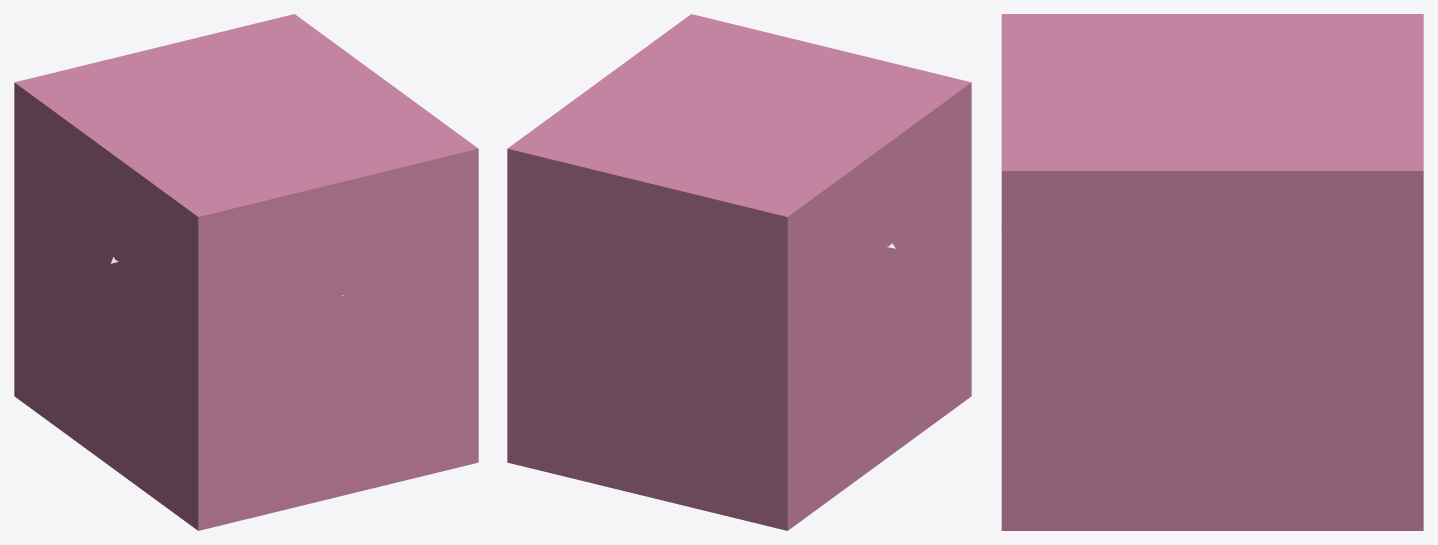
Rendered from tree_palm_f.dae.
The picture shows the model from 3 angles, left to right: view 1: azimuth 30°, elevation 25°; view 2: azimuth 150°, elevation 25°; view 3: azimuth 270°, elevation 25°; orthographic projection. The views are drawn at different scales.
Parts seen in each view (by area): view 1: Untitled; view 2: Untitled; view 3: Untitled.
Boxes of the visible parts, bbox=[...] form: Untitled: bbox=[14, 14, 478, 530]; Untitled: bbox=[507, 14, 971, 530]; Untitled: bbox=[1001, 14, 1423, 530].
Bounding box in the file's own units: 2.2 × 2.46 × 2.46.
